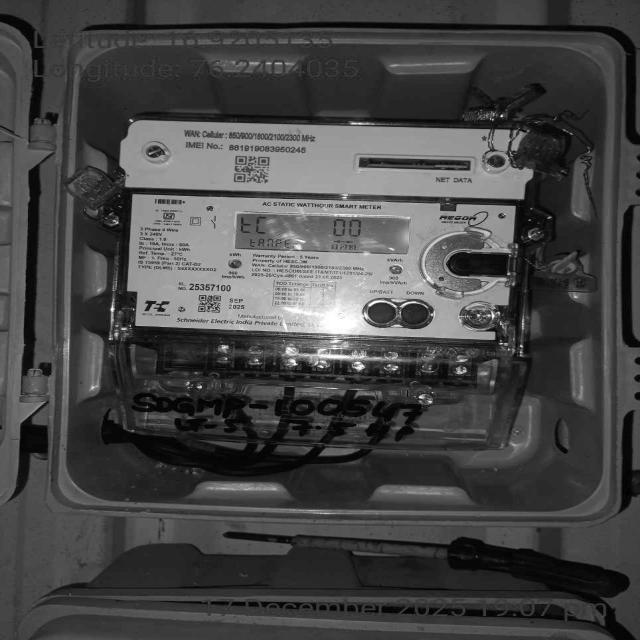meter: (122, 117, 527, 341)
